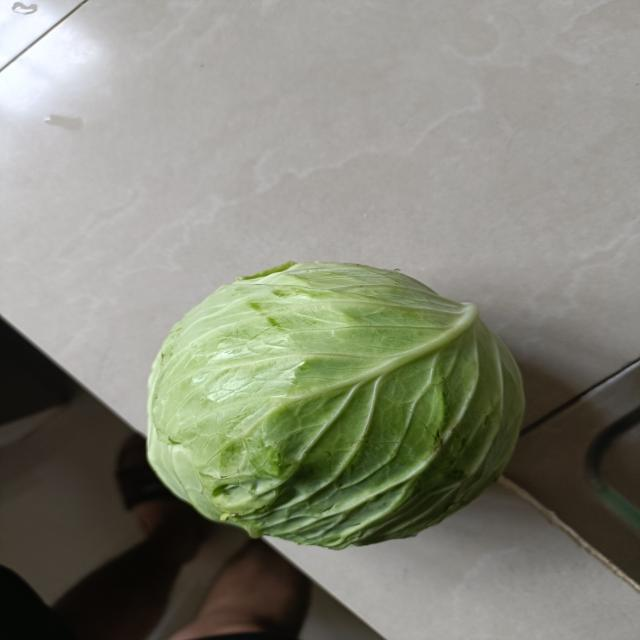cabbage: (141, 258, 525, 553)
